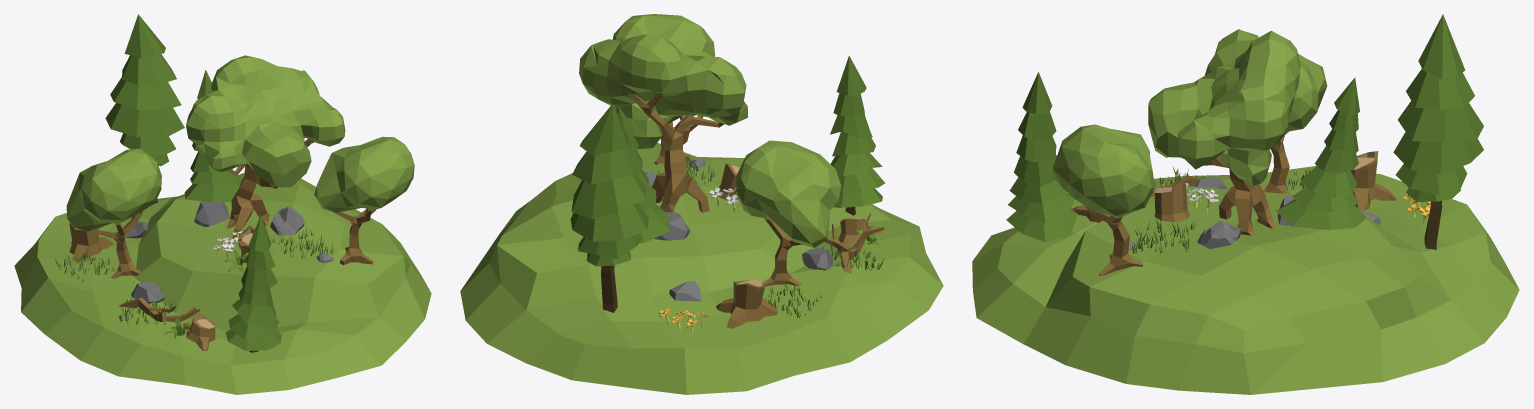
Rendered from nested trees 3.fbx.
3 renders of one model, left to right at view 1: azimuth 30°, elevation 25°; view 2: azimuth 150°, elevation 25°; view 3: azimuth 270°, elevation 25°, orthographic. The views are drawn at different scales.
Visible parts, largest first — view 1: nested forest set2_LOD0; view 2: nested forest set2_LOD0; view 3: nested forest set2_LOD0.
Part boxes in pixels (x1,y1,x2,y2): nested forest set2_LOD0: [14, 14, 431, 394]; nested forest set2_LOD0: [460, 14, 943, 394]; nested forest set2_LOD0: [972, 14, 1519, 394].
Size of what is drawn, in the model's own units: 24.28 by 14.82 by 26.94.
